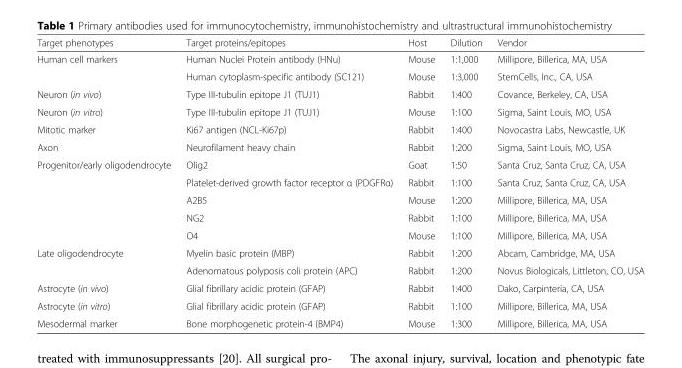table: (36, 36, 643, 328)
table column: (177, 36, 399, 328), (489, 36, 643, 328), (36, 36, 177, 328), (442, 36, 489, 328), (399, 36, 442, 328)
table column header: (36, 36, 643, 50)
table row: (36, 67, 643, 85), (36, 102, 643, 120), (36, 120, 643, 138), (36, 172, 643, 190), (36, 190, 643, 208), (36, 208, 643, 226), (36, 243, 643, 261), (36, 261, 643, 279), (36, 296, 643, 314), (36, 50, 643, 67), (36, 85, 643, 102), (36, 138, 643, 155), (36, 155, 643, 172), (36, 226, 643, 243), (36, 279, 643, 296), (36, 36, 643, 50), (36, 314, 643, 328)
table spanning cell: (36, 155, 177, 243), (36, 243, 177, 279), (36, 50, 177, 85)
